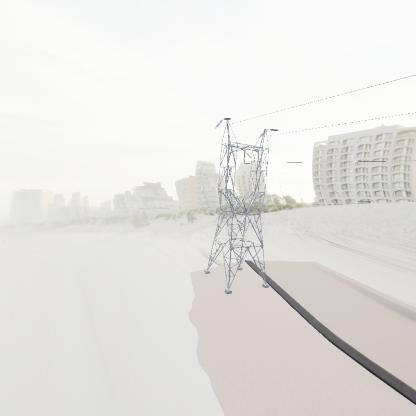tower: (200, 112, 286, 293)
